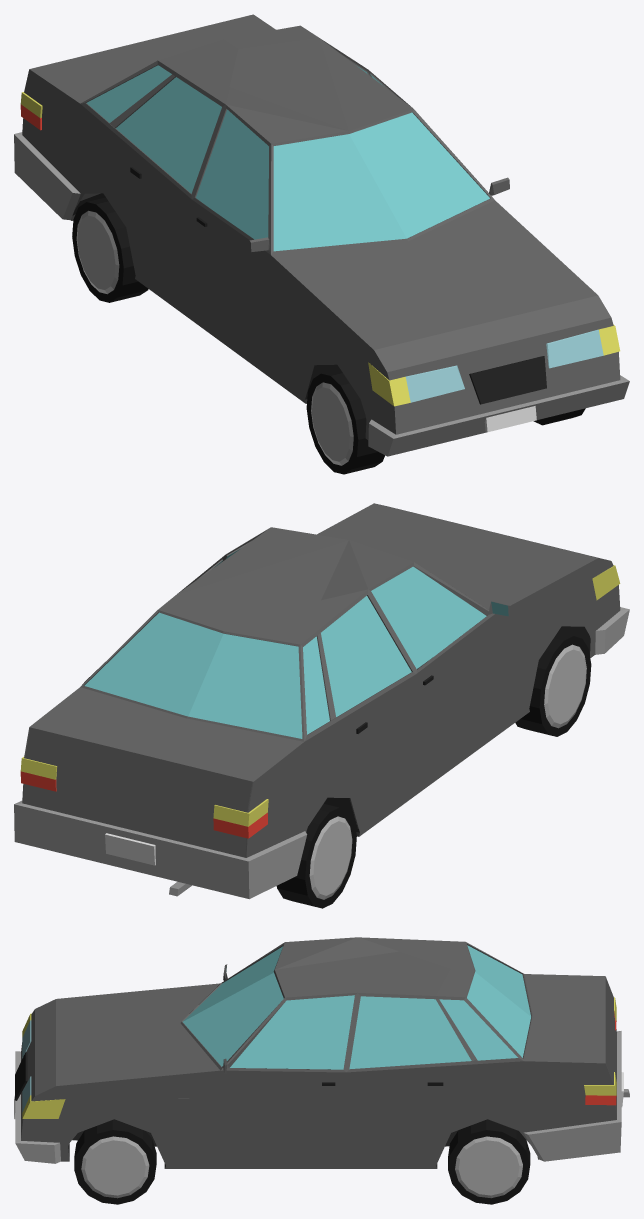
File: lp_car5.fbx
3 renders of one model, top to bottom at view 1: azimuth 30°, elevation 25°; view 2: azimuth 150°, elevation 25°; view 3: azimuth 270°, elevation 25°, orthographic. The views are drawn at different scales.
Visible parts, largest first — view 1: Car, wheel_FR, wheel_BR; view 2: Car, wheel_BR, wheel_FR; view 3: Car, wheel_FL, wheel_BL.
Part boxes in pixels (x1,y1,x2,y2): Car: (14, 14, 629, 456); wheel_FR: (306, 369, 384, 474); wheel_BR: (72, 197, 148, 302); Car: (14, 503, 629, 899); wheel_BR: (276, 803, 356, 908); wheel_FR: (515, 632, 591, 736); Car: (14, 937, 629, 1168); wheel_FL: (74, 1119, 156, 1204); wheel_BL: (448, 1119, 530, 1204).
Bounding box in the file's own units: 231 × 208 × 597.
